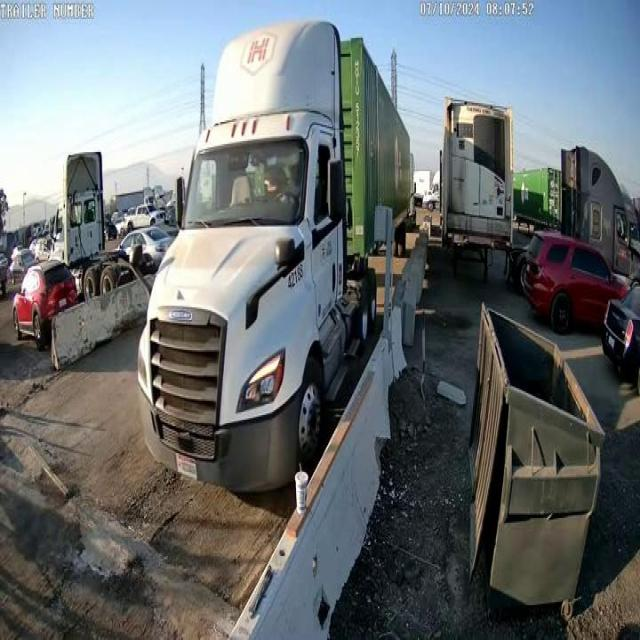TRUCK_OUT: (132, 20, 418, 488)
